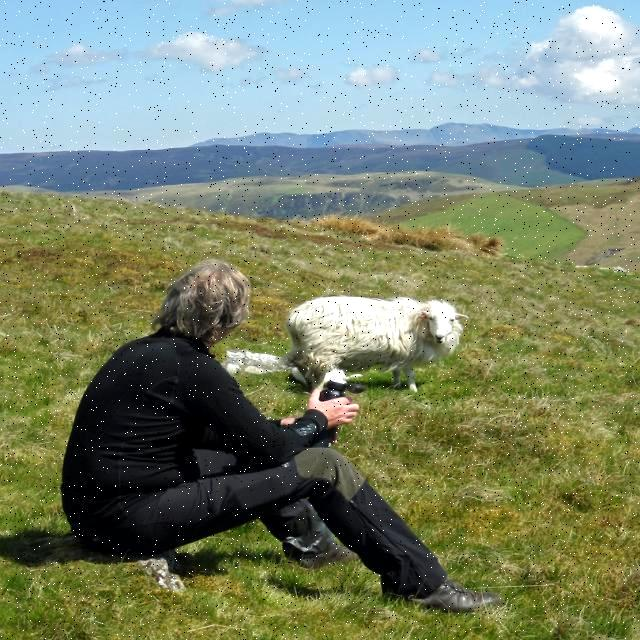sheep: (287, 296, 468, 391)
